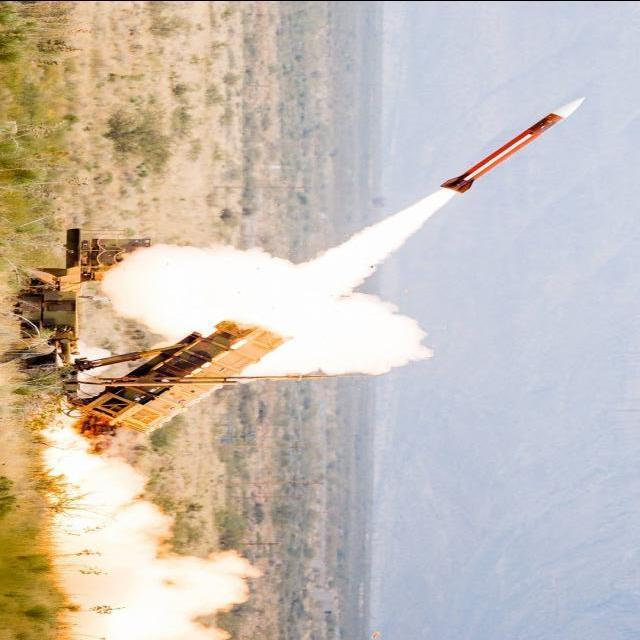missile: (437, 91, 592, 200)
